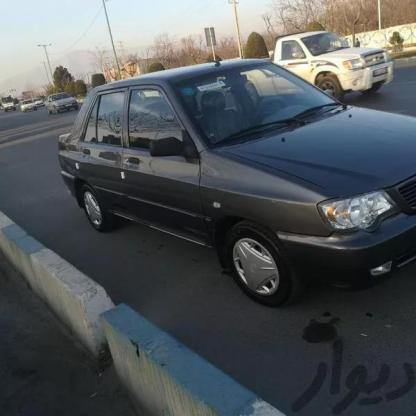Car: (16, 65, 416, 292), (238, 18, 396, 111), (43, 93, 80, 116), (20, 101, 38, 115), (31, 96, 43, 106)
Truck: (4, 94, 18, 116)
